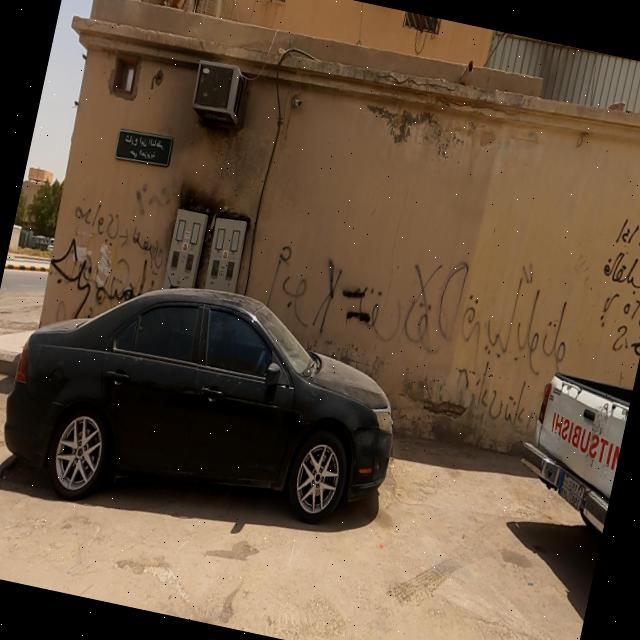Graffiti: (252, 208, 583, 438), (42, 169, 179, 333), (588, 215, 640, 359)
